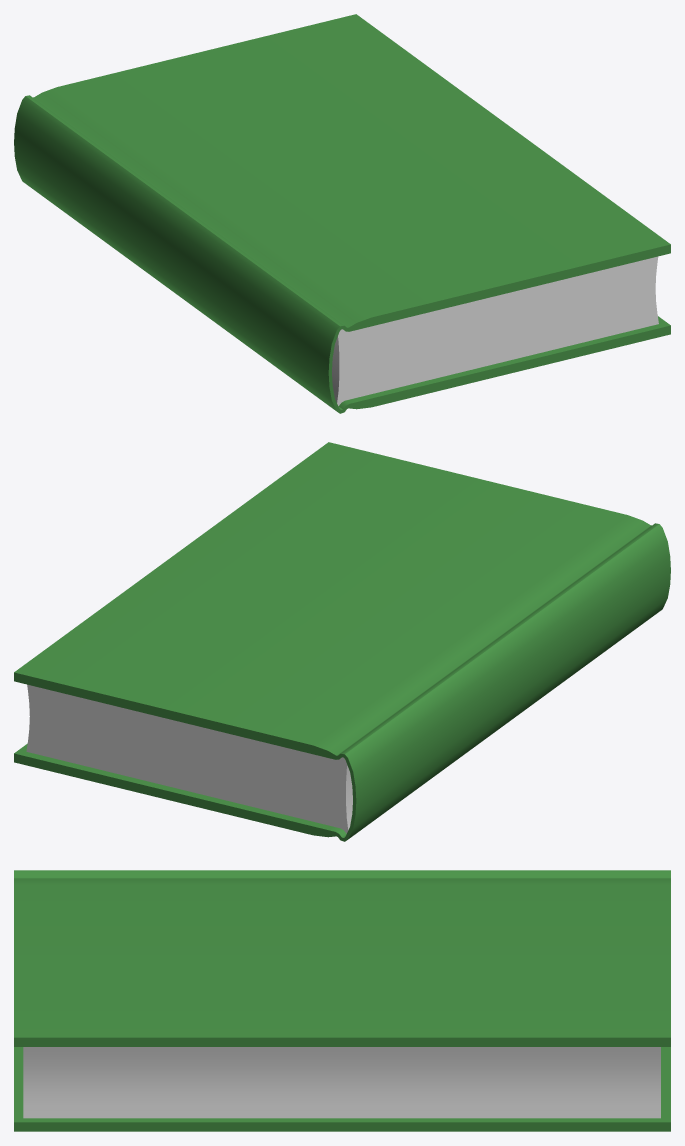
Rendered from kitap_yesil.fbx.
The picture shows the model from 3 angles, top to bottom: view 1: azimuth 30°, elevation 25°; view 2: azimuth 150°, elevation 25°; view 3: azimuth 270°, elevation 25°; orthographic projection. The views are drawn at different scales.
Visible parts, largest first — view 1: book_01; view 2: book_01; view 3: book_01.
Boxes of the visible parts, bbox=[...] form: book_01: bbox=[14, 14, 670, 413]; book_01: bbox=[14, 442, 670, 841]; book_01: bbox=[14, 870, 670, 1131].
Size of the model in its own units: 13.51 by 3.39 by 21.51.
